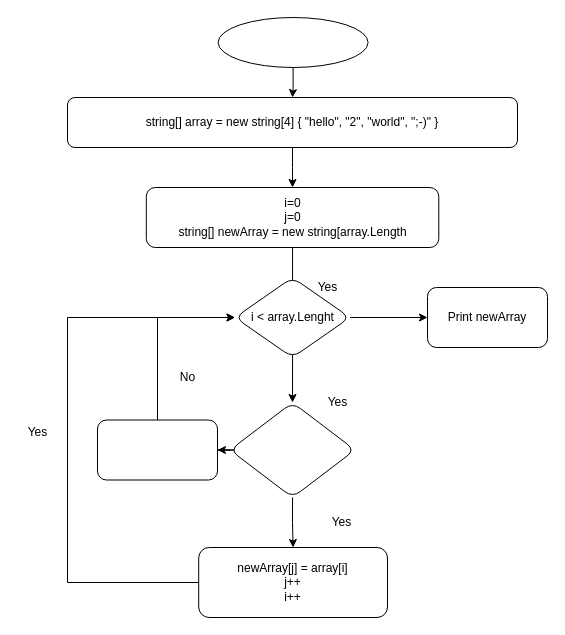
Some shapes in this 565 by 635 pixel diagram are drawn without their labels. The box of each missing label's shape, as (x1, y1, x2, y2) in pixels:
array[i].Length<=3: (229, 402, 355, 498)
i++: (96, 419, 218, 480)
start: (217, 16, 368, 68)
